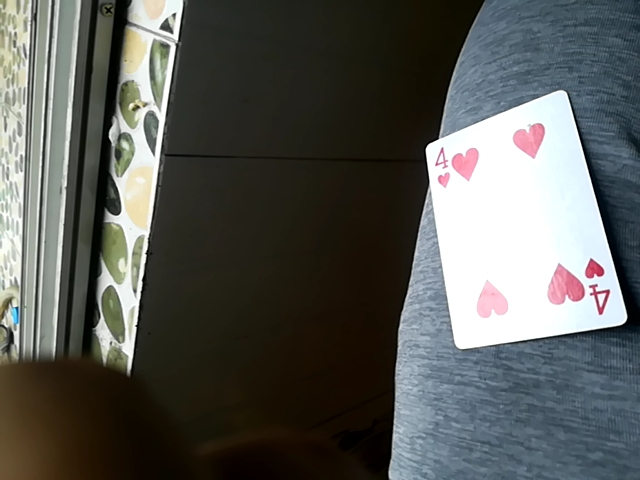hx 4: (419, 87, 626, 349)
